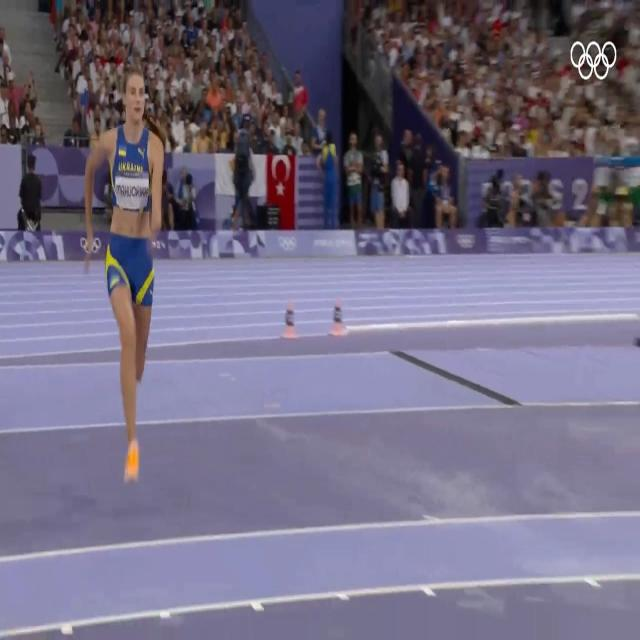run: (86, 66, 170, 483)
